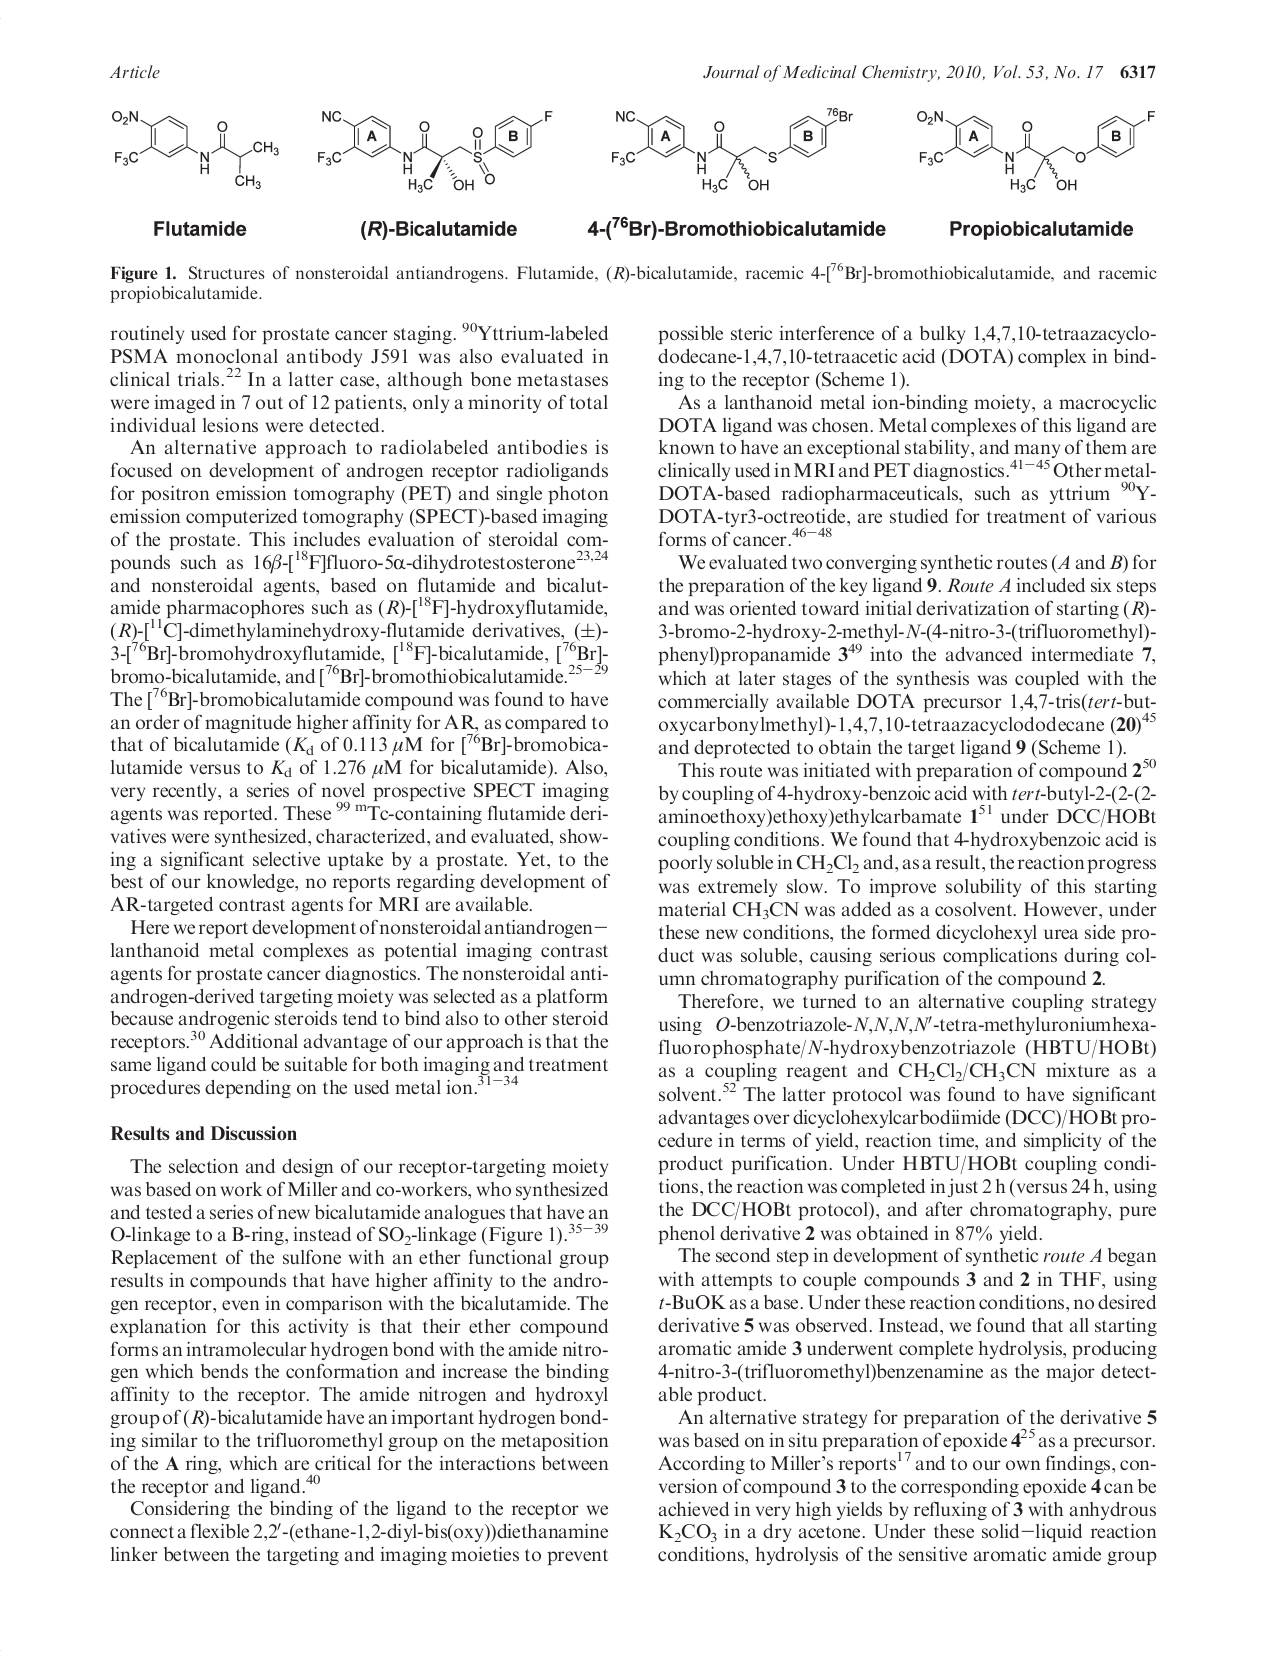exist_molecular: (914, 106, 1157, 193), (609, 106, 852, 192), (314, 109, 556, 192), (108, 106, 281, 193)
